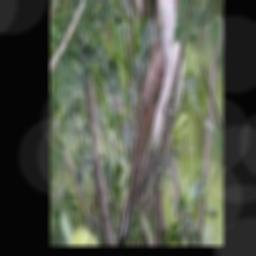Cuckoo: (119, 0, 184, 244)
